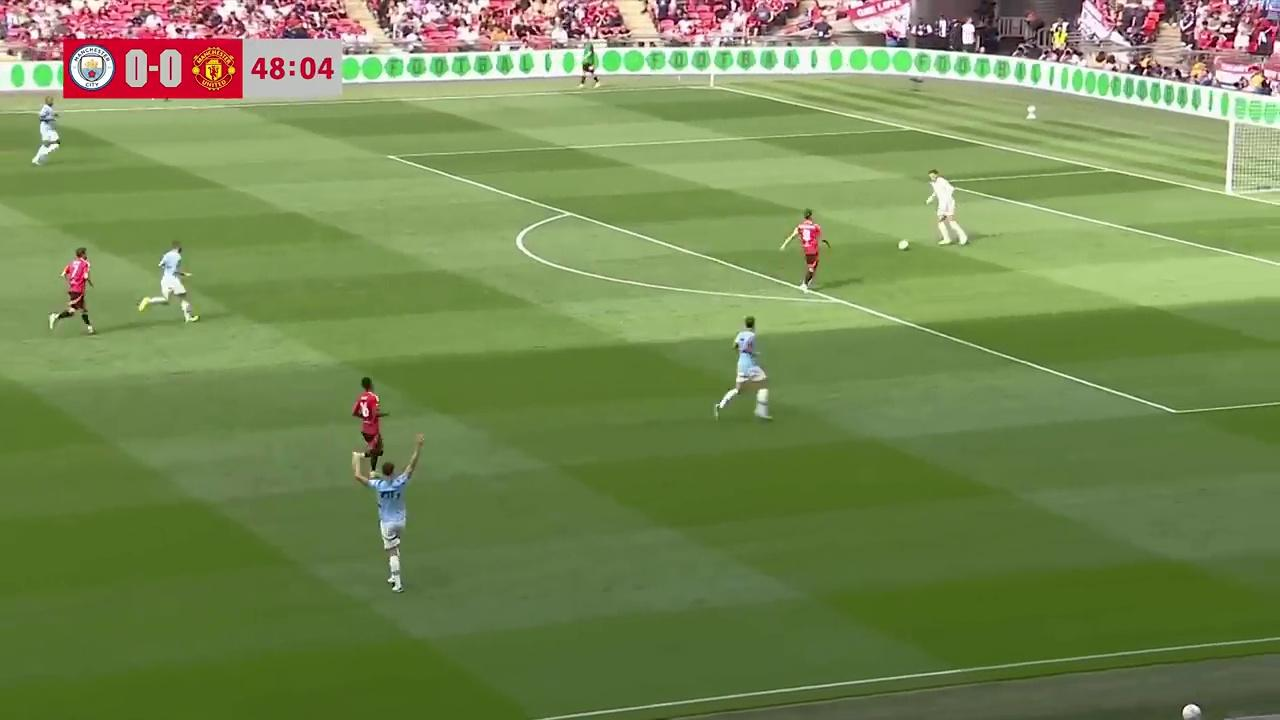ball: (895, 236, 910, 252)
player: (371, 451, 423, 592), (713, 315, 774, 423), (138, 241, 198, 322), (48, 248, 95, 334), (781, 209, 829, 291), (350, 376, 385, 486), (925, 172, 968, 246), (32, 99, 60, 165)
